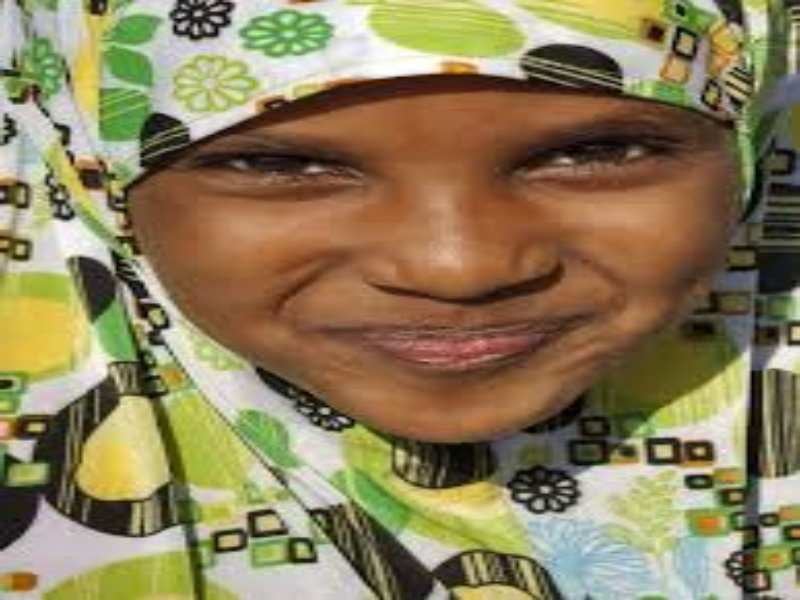face: (150, 105, 738, 393)
